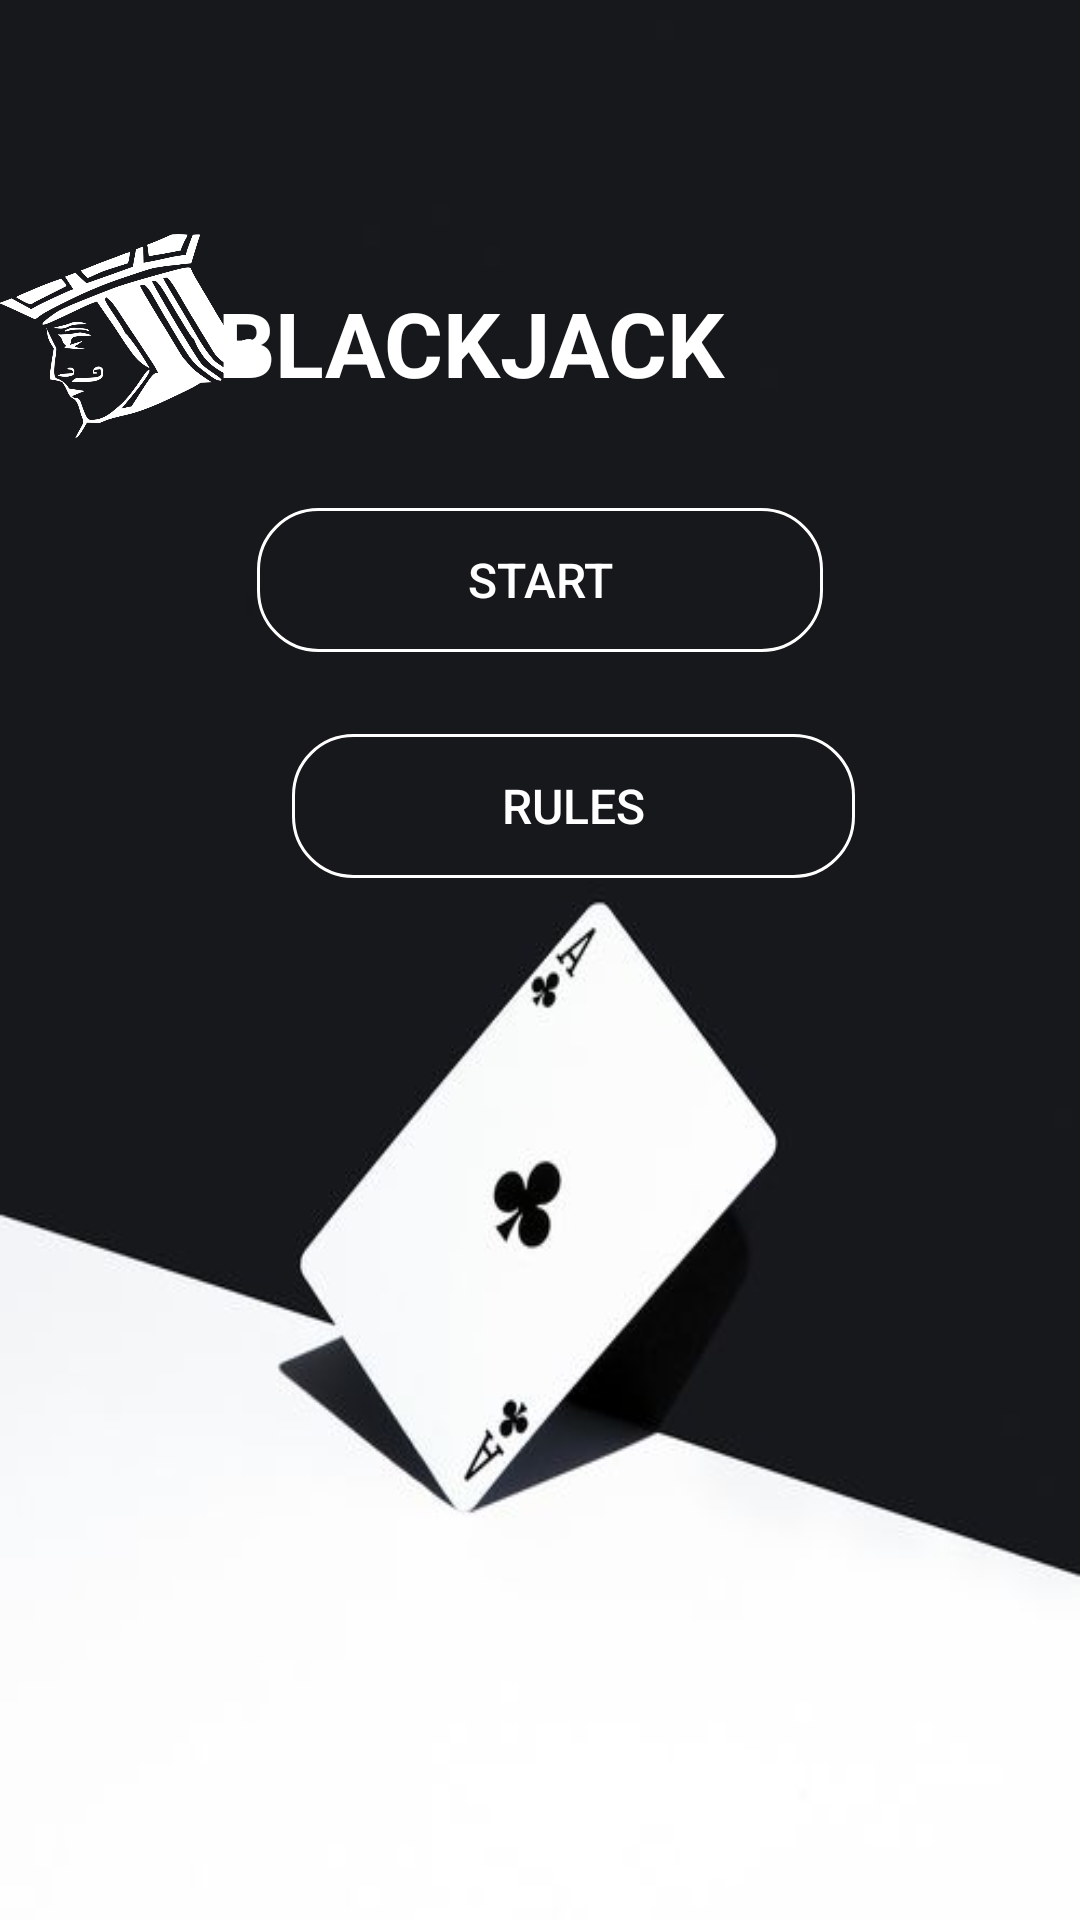

Named icons in this screenshot (1080 x 1920) and their bounding boxes, (x1, y1, x2, y2):
king: (0, 234, 263, 438)
